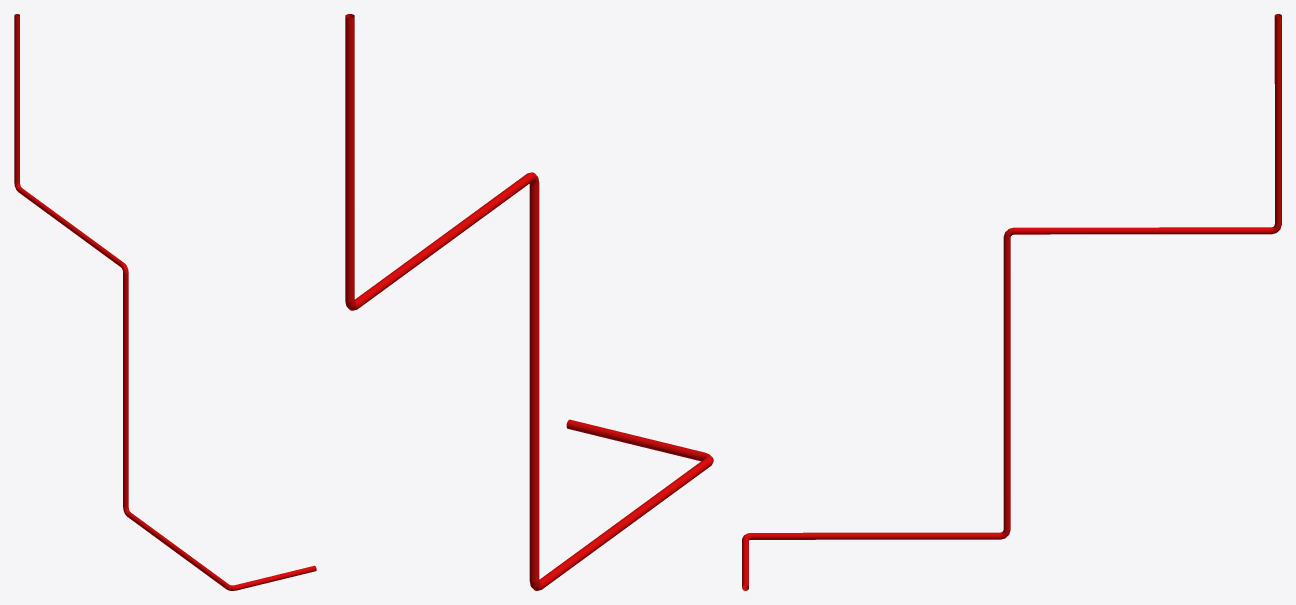
Rendered from куб.078нов.fbx.
The picture shows the model from 3 angles, left to right: view 1: azimuth 30°, elevation 25°; view 2: azimuth 150°, elevation 25°; view 3: azimuth 270°, elevation 25°; orthographic projection. The views are drawn at different scales.
Parts seen in each view (by area): view 1: Куб_078_LOD0; view 2: Куб_078_LOD0; view 3: Куб_078_LOD0.
Part boxes in pixels (bbox=[...]): Куб_078_LOD0: bbox=[14, 14, 316, 590]; Куб_078_LOD0: bbox=[345, 14, 713, 590]; Куб_078_LOD0: bbox=[742, 14, 1281, 590].
Size of what is drawn, in the model's own units: 425 by 1963 by 1832.
